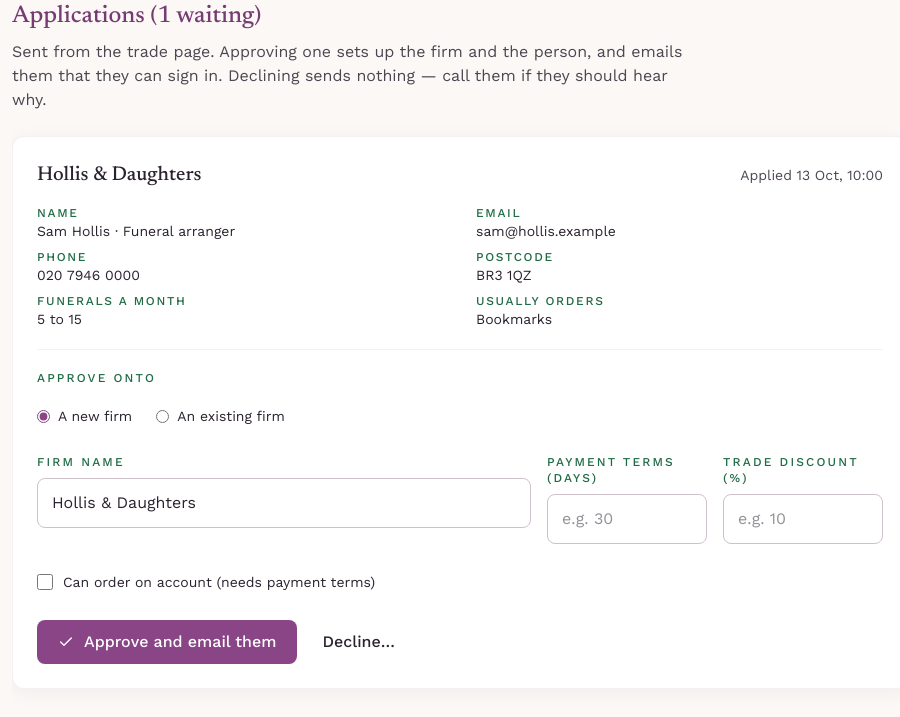
Test: AdminTradeApplications › shows the server's refusal on the card
Click the button "Approve and email them": (167, 642) [37,620,297,664]
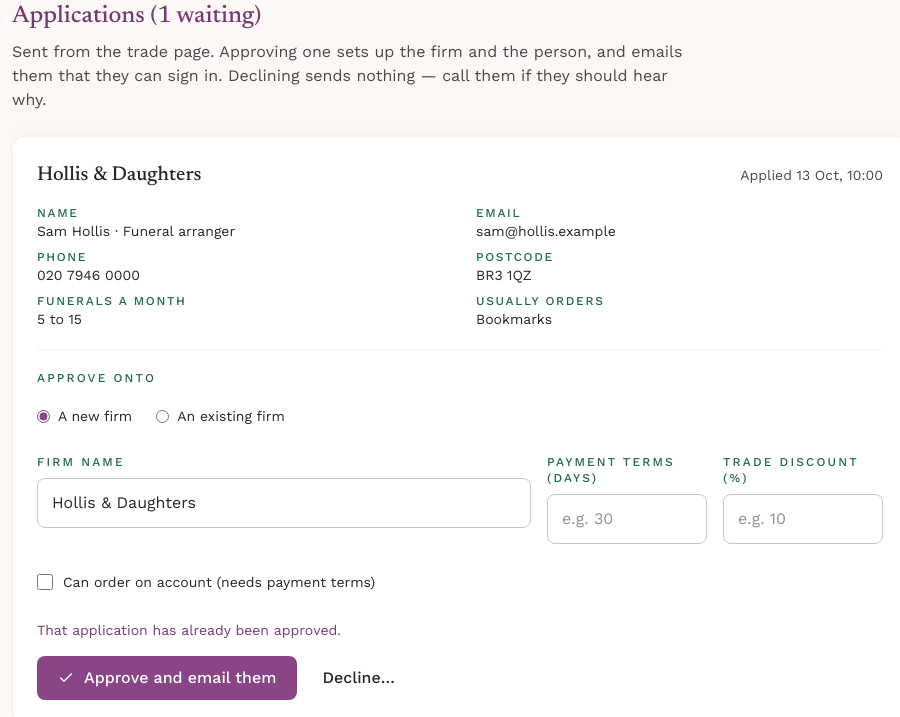
Result: the message reads "That application has already been approved." at [37,622,341,638]
